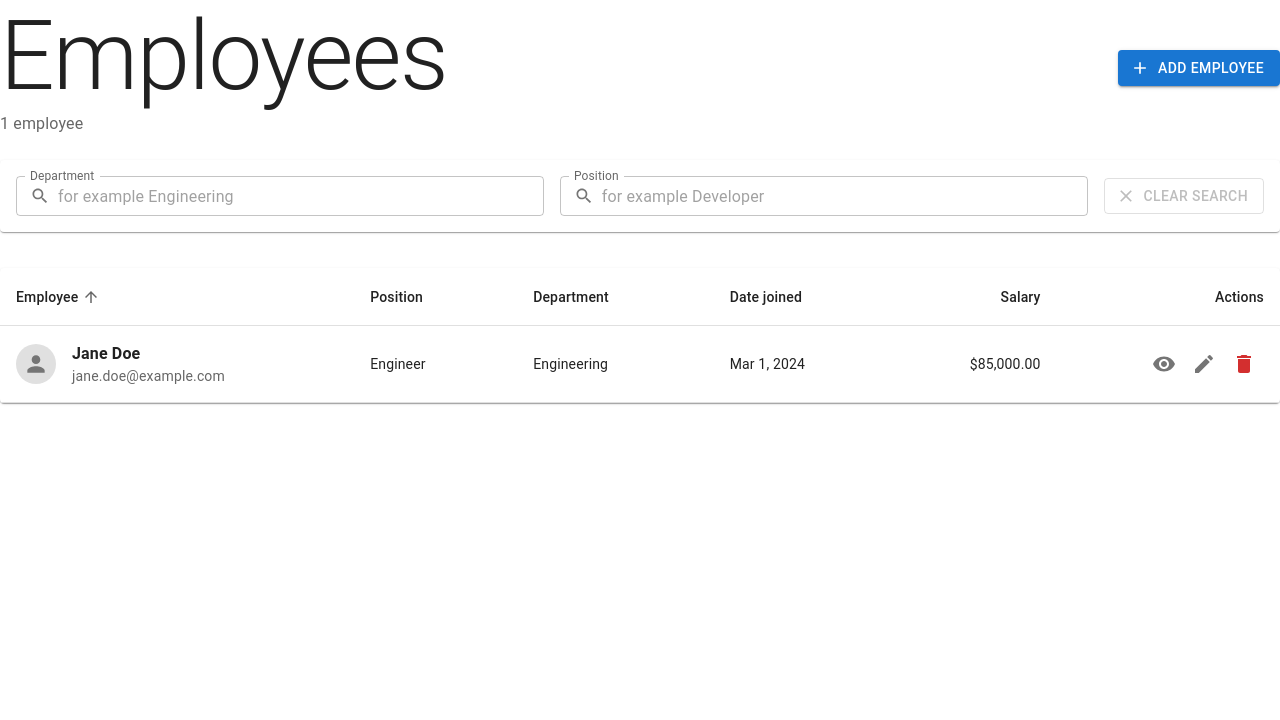
Test: EmployeeListPage: deleting › shows the empty state after the last employee is deleted
This screenshot has width=1280, height=720.
Click the button named "Delete Jane Doe" at (1244, 364), box [1224, 344, 1264, 384]
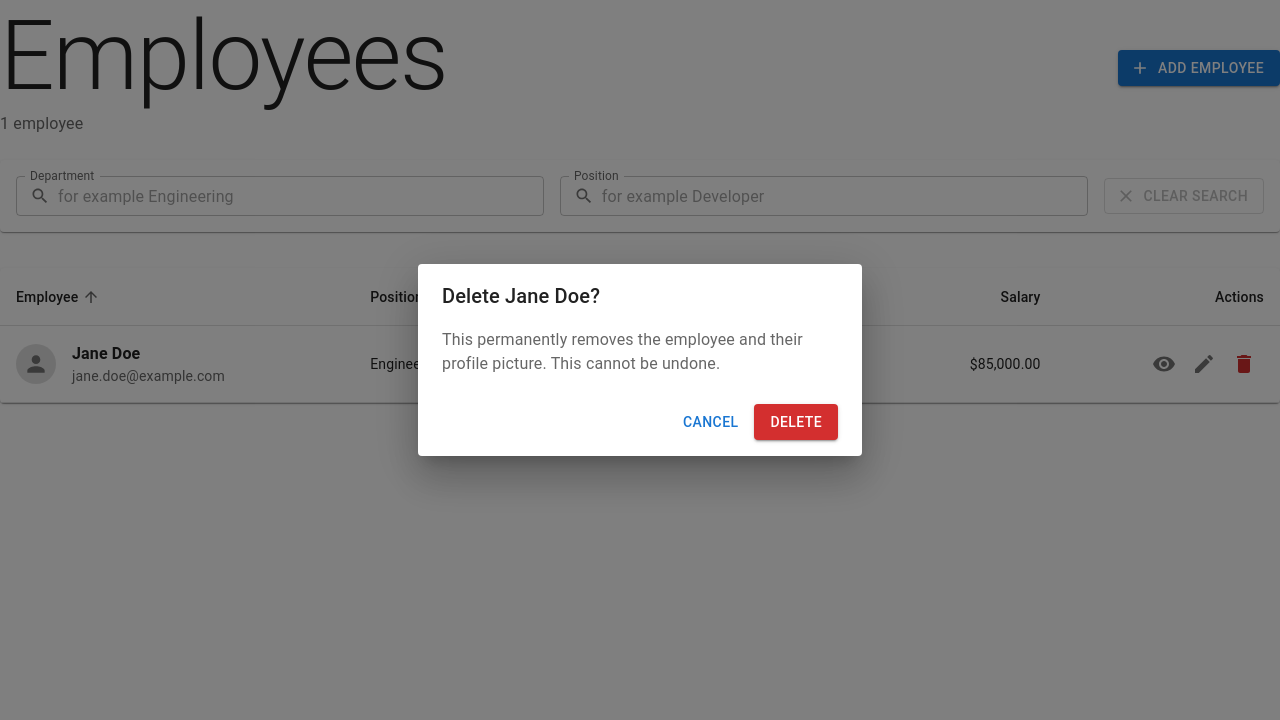
Click the button "Delete" at (796, 422), box [754, 404, 838, 440]
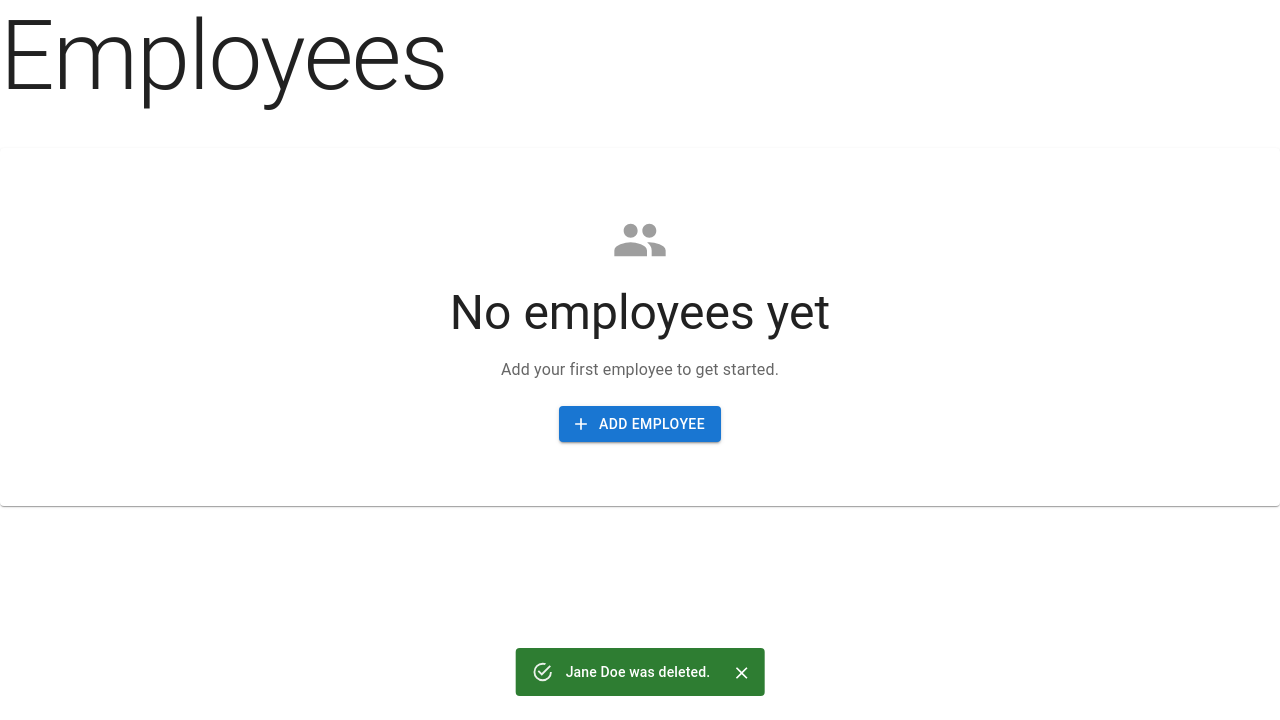
Check: the heading "No employees yet" is shown, box [450, 284, 830, 341]
